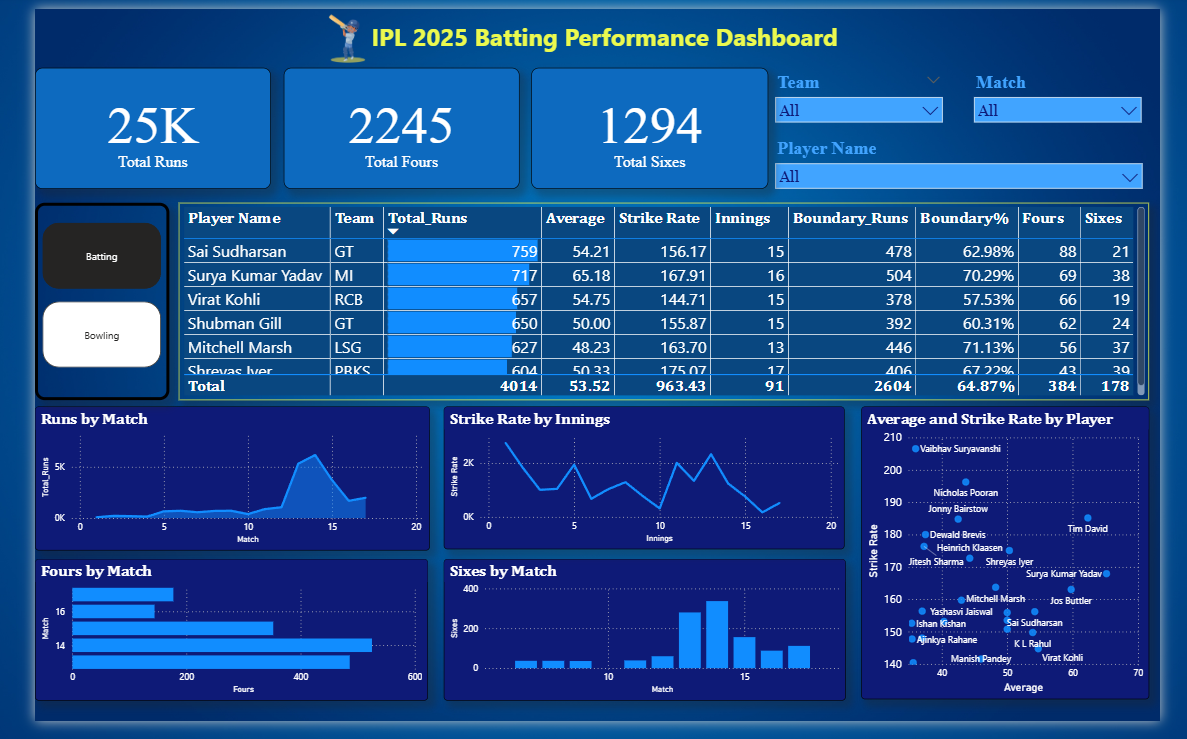

Layout of this report page (visuals, bound fields, positions):
{"tool":"powerbi","page":{"name":"Batting ","canvas":[1500,950],"ordinal":0},"visuals":[{"type":"tableEx","fields":{"Values":["IPL2025Batters.Player Name","IPL2025Batters.Team","IPL2025Batters.Total_Runs","IPL2025Batters.AVERAGE","Sum(IPL2025Batters.SR)","Sum(IPL2025Batters.INN)","IPL2025Batters.Boundary_Runs","IPL2025Batters.Boundary%","Sum(IPL2025Batters.Fours)","Sum(IPL2025Batters.Sixes)"]},"box":[192,258.2,1294,263],"z":0},{"type":"textbox","box":[416.3,9.7,685.7,56.5],"z":1000},{"type":"slicer","fields":{"Values":["IPL2025Batters.Team"]},"box":[976.1,79.1,243.6,87.1],"z":2000},{"type":"slicer","fields":{"Values":["IPL2025Batters.Player Name"]},"box":[976.1,166.2,509.9,92],"z":3000},{"type":"card","fields":{"Values":["Sum(IPL2025Batters.Runs)"]},"box":[0,79.1,314.6,161.3],"z":4000},{"type":"card","fields":{"Values":["Sum(IPL2025Batters.Fours)"]},"box":[332.4,79.1,314.6,161.3],"z":5000},{"type":"card","fields":{"Values":["Sum(IPL2025Batters.Sixes)"]},"box":[661.5,79.1,316.2,161.3],"z":6000},{"type":"areaChart","title":"Runs by Match","fields":{"Category":["IPL2025Batters.Match"],"Y":["IPL2025Batters.Total_Runs"]},"box":[0,530.8,526,192],"z":7000},{"type":"columnChart","fields":{"Category":["IPL2025Batters.Match"],"Y":["Sum(IPL2025Batters.Sixes)"]},"box":[545.3,732.5,535.7,188.8],"z":8000},{"type":"clusteredBarChart","fields":{"Category":["IPL2025Batters.Match"],"Y":["Sum(IPL2025Batters.Fours)"]},"box":[0,732.5,524.4,188.8],"z":9000},{"type":"scatterChart","fields":{"Category":["IPL2025Batters.Player Name"],"X":["IPL2025Batters.AVERAGE"],"Y":["Sum(IPL2025Batters.SR)"]},"box":[1102,530.8,384,390.5],"z":10000},{"type":"lineChart","fields":{"Category":["IPL2025Batters.INN"],"Y":["Sum(IPL2025Batters.SR)"]},"box":[545.3,530.8,534.1,190.4],"z":11000},{"type":"slicer","fields":{"Values":["IPL2025Batters.Match"]},"box":[1242.4,79.1,243.6,80.7],"z":12000},{"type":"textbox","box":[1185.9,9.7,300.1,56.5],"z":13000},{"type":"pageNavigator","box":[9.7,285.6,158.1,88.7],"z":14000},{"type":"shape","box":[0,258.2,179.1,263],"z":15000},{"type":"pageNavigator","box":[9.7,390.5,158.1,88.7],"z":16000},{"type":"image","box":[355,0,122.6,79.1],"z":17000}]}

Visuals, with their boxes in screenshot pixels (x1, y1, x2, y2), scaled from the page's 1500x950 canvas onto the 1187x739 screenshot:
tableEx - IPL2025Batters.Player Name x IPL2025Batters.Team: 152/201/1176/405
textbox: 329/8/872/51
slicer - IPL2025Batters.Team: 772/62/965/129
slicer - IPL2025Batters.Player Name: 772/129/1176/201
card - Sum(IPL2025Batters.Runs): 0/62/249/187
card - Sum(IPL2025Batters.Fours): 263/62/512/187
card - Sum(IPL2025Batters.Sixes): 523/62/774/187
"Runs by Match" areaChart: 0/413/416/562
columnChart - IPL2025Batters.Match x Sum(IPL2025Batters.Sixes): 432/570/855/717
clusteredBarChart - IPL2025Batters.Match x Sum(IPL2025Batters.Fours): 0/570/415/717
scatterChart - IPL2025Batters.Player Name x IPL2025Batters.AVERAGE: 872/413/1176/717
lineChart - IPL2025Batters.INN x Sum(IPL2025Batters.SR): 432/413/854/561
slicer - IPL2025Batters.Match: 983/62/1176/124
textbox: 938/8/1176/51
pageNavigator: 8/222/133/291
shape: 0/201/142/405
pageNavigator: 8/304/133/373
image: 281/0/378/62
